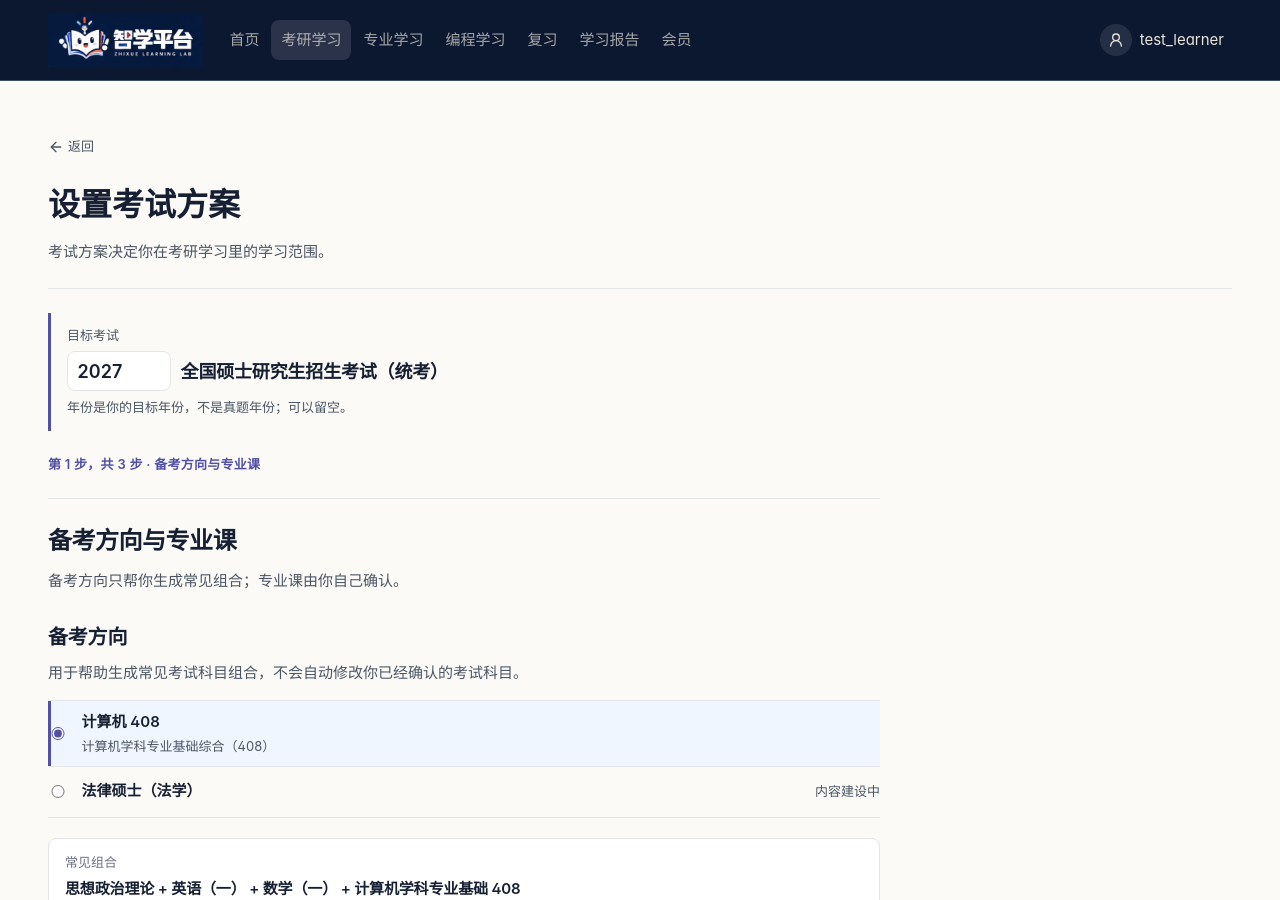
Scenario: 设置考试方案 › reads the plan back before it is saved, and can go back to change it
Check: the heading "设置考试方案" is shown, box 48,181 -> 240,229
Click the radio button labelled "计算机 408 计算机学科专业基础综合（408）". click: click(58, 733)
box: 48,727 -> 68,740
(page scrolled)
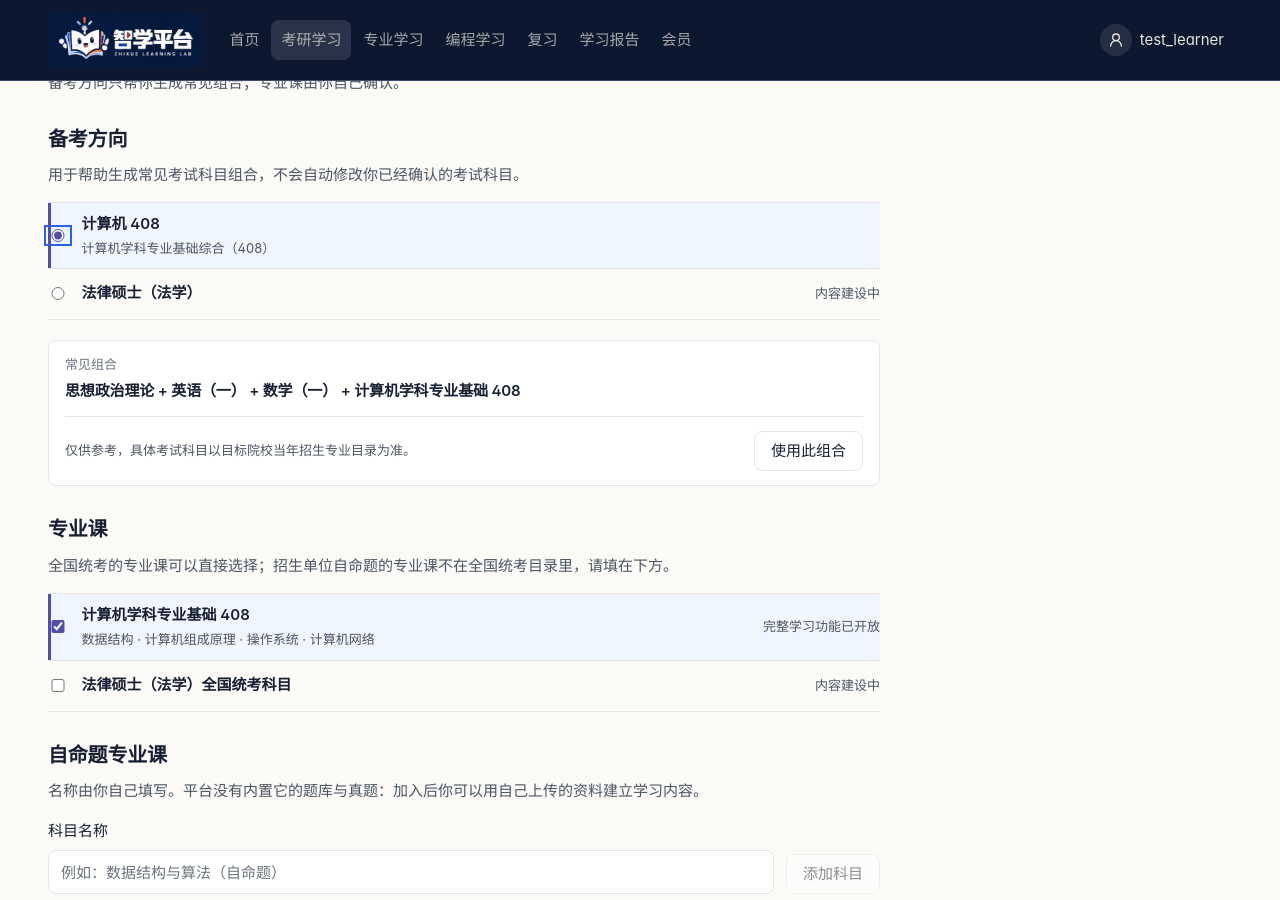
Click the button "使用此组合". click: click(808, 451)
box: 754,431 -> 863,471
(page scrolled)
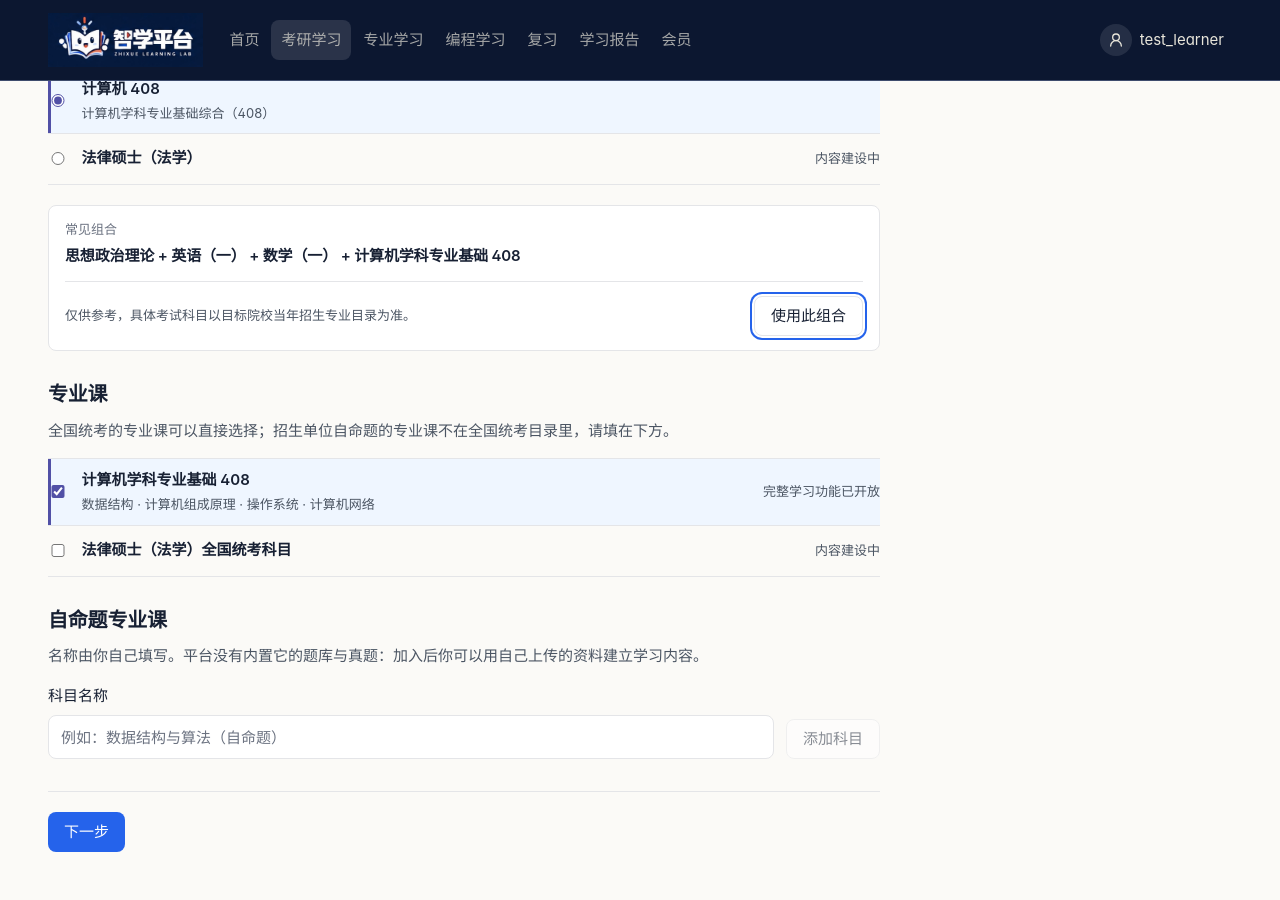
Click the button "下一步". click: click(86, 832)
box: 48,812 -> 125,852
(page scrolled)
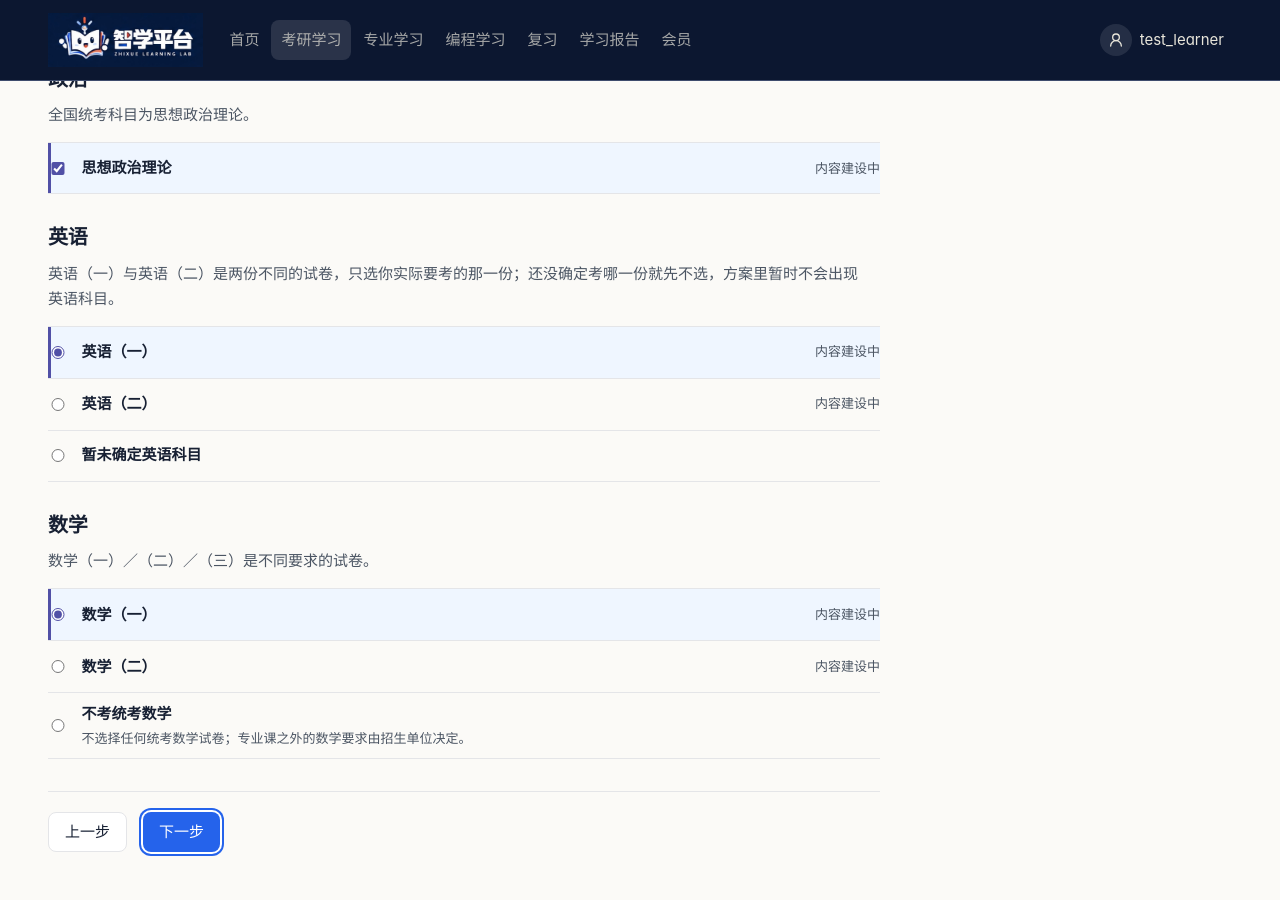
Click the button "下一步". click: click(182, 832)
box: 143,812 -> 220,852
(page scrolled)
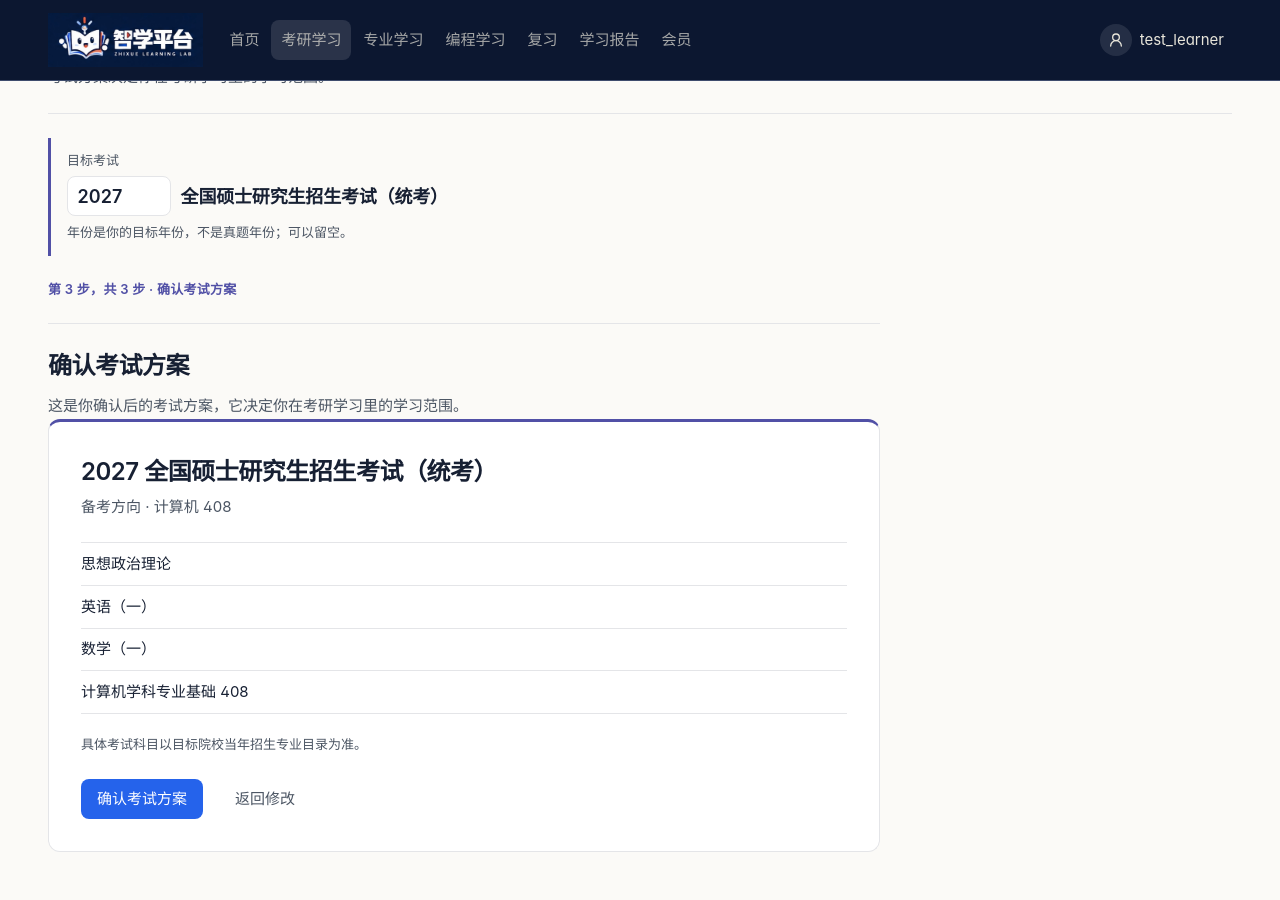
Check: the text "2027 全国硕士研究生招生考试（统考）" is shown, box 81,456 -> 497,486
Check: the text "备考方向 · 计算机 408" is shown, box 81,497 -> 231,516
Check: the list item "计算机学科专业基础 408" is shown, box 81,672 -> 847,714
Click the button "返回修改". click: click(265, 799)
box: 219,779 -> 311,819
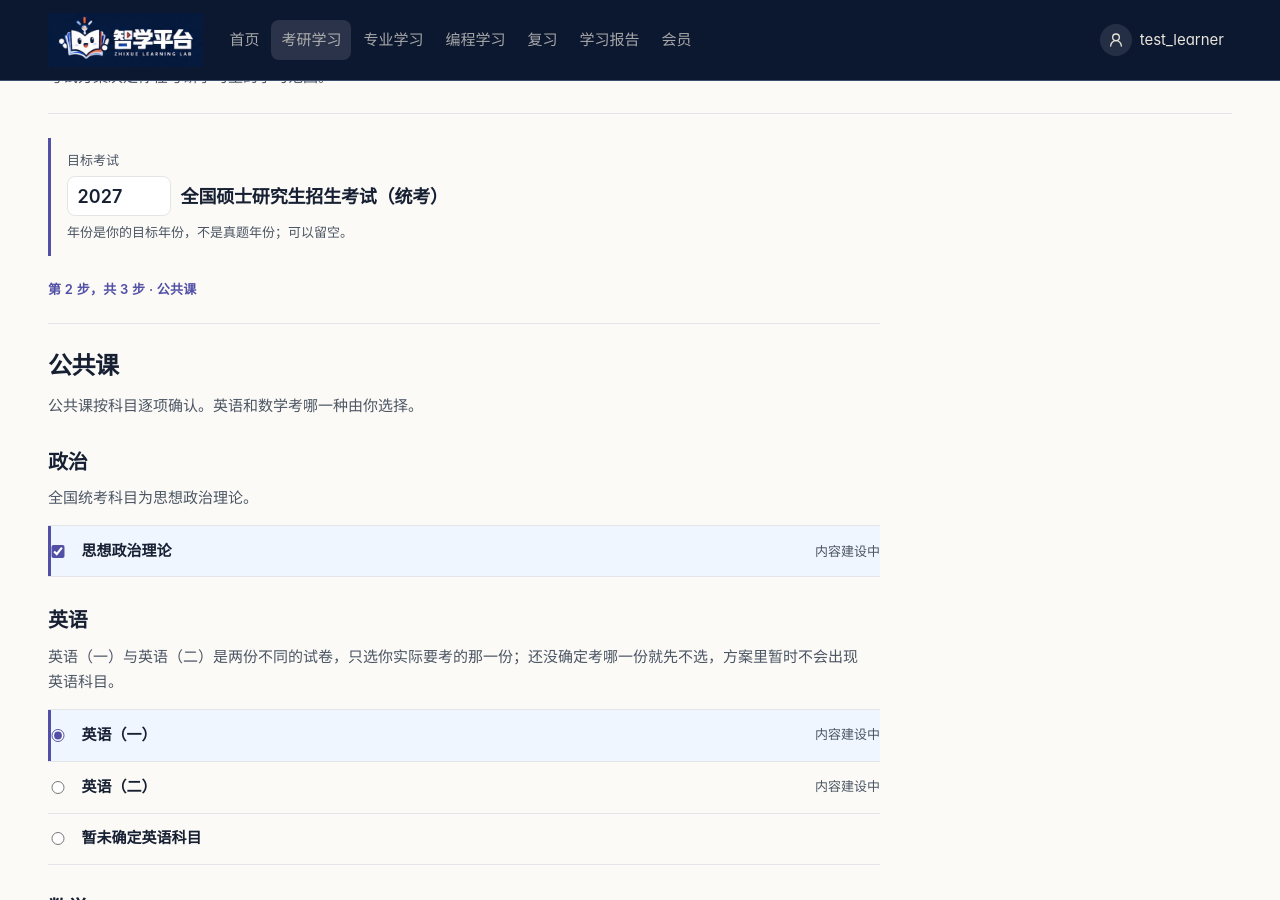
Check: the text "第 2 步，共 3 步 · 公共课" is shown, box 48,281 -> 197,297
